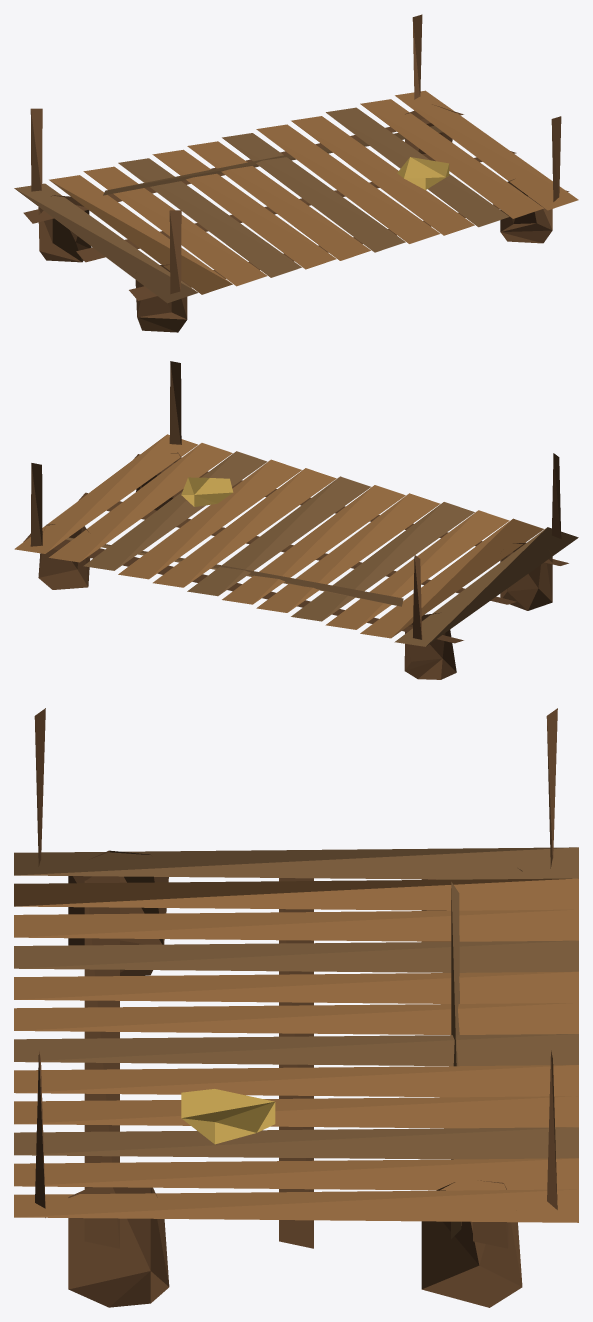
The model's file is ferry_raft_lod1.glb.
3 views of the same model, one above another, from view 1: azimuth 30°, elevation 25°; view 2: azimuth 150°, elevation 25°; view 3: azimuth 270°, elevation 25° (orthographic). The views are drawn at different scales.
Parts seen in each view (by area): view 1: ferry_raft_lod1; view 2: ferry_raft_lod1; view 3: ferry_raft_lod1.
Part boxes in pixels (x1,y1,x2,y2): ferry_raft_lod1: (14, 14, 578, 332); ferry_raft_lod1: (14, 361, 578, 679); ferry_raft_lod1: (14, 708, 578, 1307).
Size of the model in its own units: 5.2 by 1.5 by 3.2.
